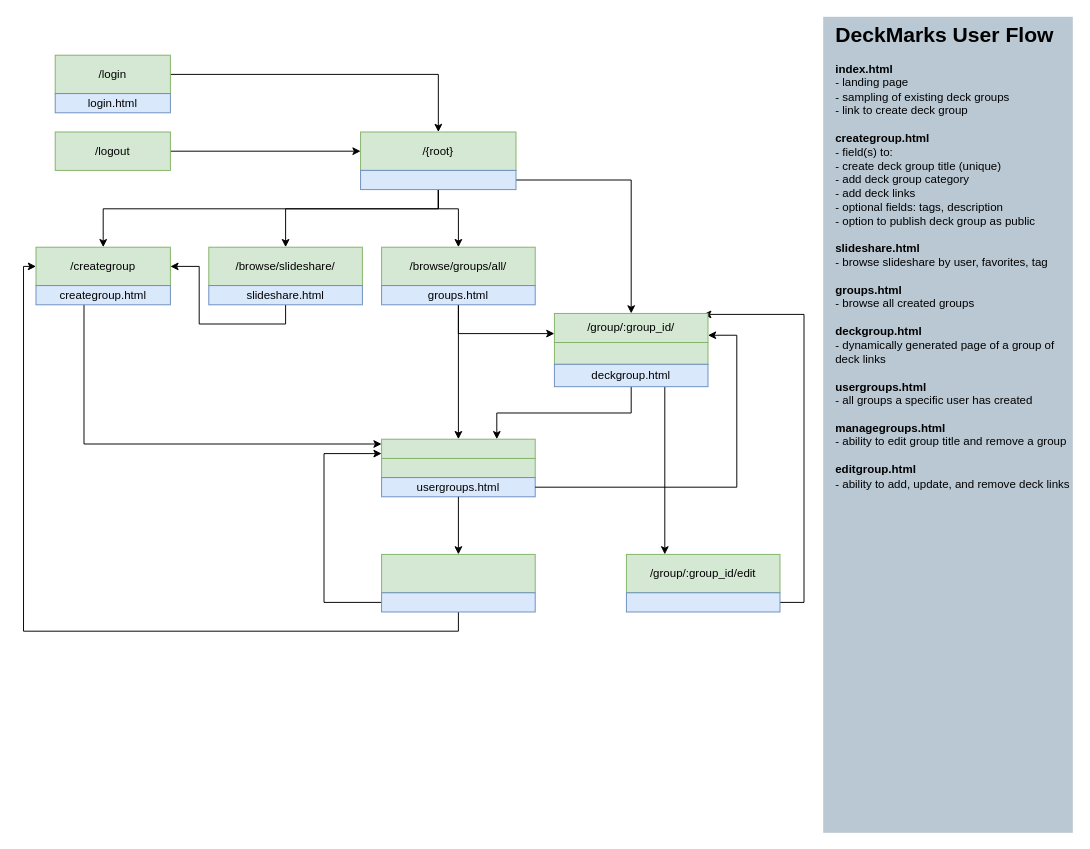
Image size: 1090x849. Some labels were removed from this diagram. The shapes that lost their labels are listed below. From the top down, each one's box as (x1, y1, x2, y2) in pixels, then its label:
(360, 169, 516, 190): index.html
(553, 342, 708, 364): /:grouptitle
(381, 438, 535, 458): /user/:user_id/
(381, 457, 535, 478): /:user
(381, 553, 535, 593): /managegroups
(381, 592, 535, 612): managegroups.html
(625, 592, 780, 612): editgroup.html
